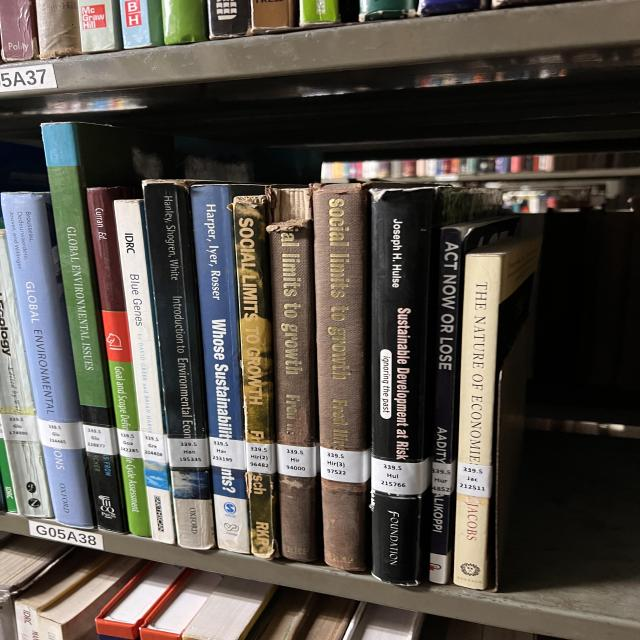Book: (370, 188, 493, 585), (42, 122, 173, 428), (428, 218, 520, 584), (453, 236, 542, 590), (2, 192, 93, 528), (190, 184, 263, 554), (142, 180, 215, 549), (87, 186, 150, 536), (313, 185, 370, 571), (113, 199, 175, 544), (267, 188, 320, 561), (228, 195, 278, 558), (0, 231, 53, 518), (87, 454, 127, 532)
Label: (372, 458, 432, 495), (320, 448, 370, 482), (37, 419, 85, 450), (277, 444, 317, 478), (167, 438, 210, 468), (457, 462, 492, 498), (208, 436, 245, 470), (83, 424, 118, 455), (0, 414, 40, 441), (245, 442, 277, 474), (140, 431, 168, 464), (432, 462, 455, 495), (117, 429, 142, 459)
